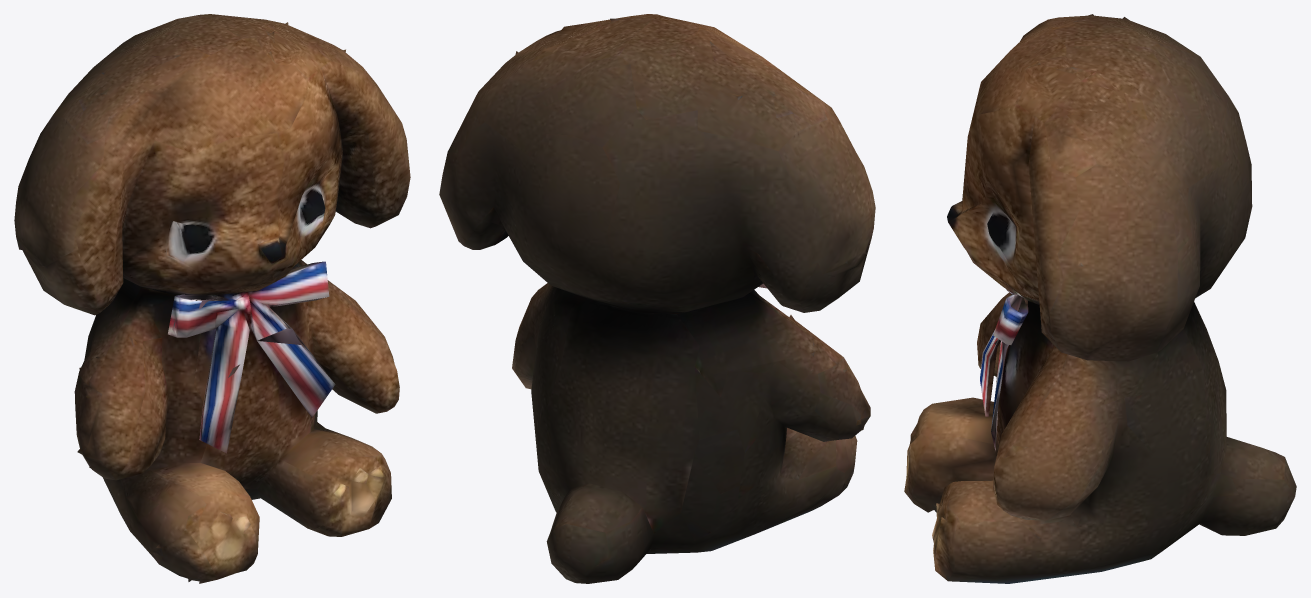
The model's file is teddybear.glb.
3 views of the same model, side by side, from view 1: azimuth 30°, elevation 25°; view 2: azimuth 150°, elevation 25°; view 3: azimuth 270°, elevation 25° (orthographic). The views are drawn at different scales.
Parts seen in each view (by area): view 1: node_0; view 2: node_0; view 3: node_0.
Part boxes in pixels (<box>): node_0: <box>14,14,410,583</box>; node_0: <box>439,14,875,583</box>; node_0: <box>904,14,1296,583</box>.
Size of the model in its own units: 0.7791 by 0.9402 by 0.6713.
1 material, 1 textured.
